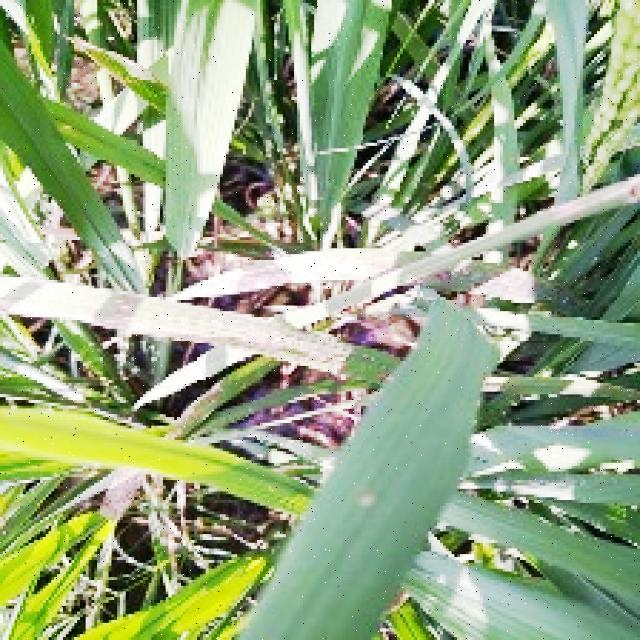health: (8, 408, 214, 485)
